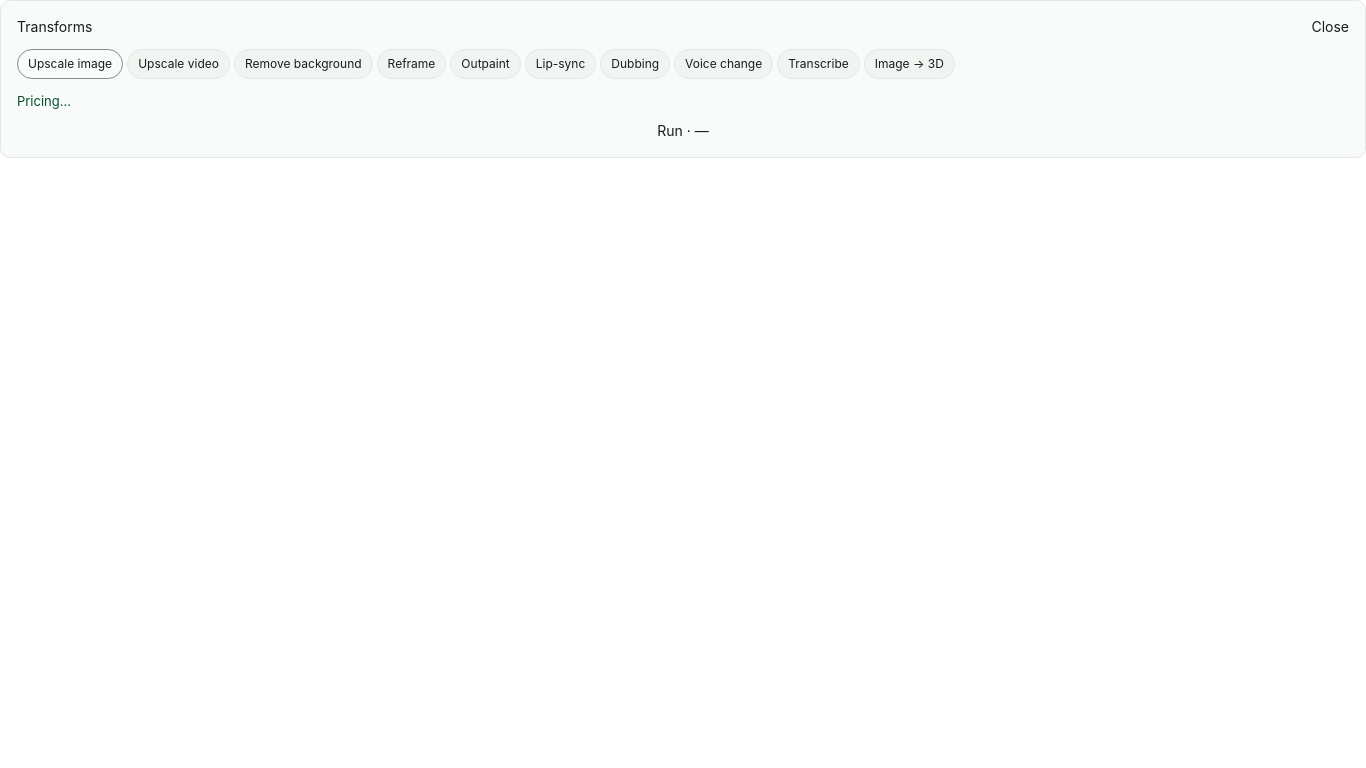
Test: TransformsPanel (F-CRE-11) › Image → 3D prices Trellis and Hunyuan3D on the strip and offers background removal (F-CRE-15)
This screenshot has width=1366, height=768.
Click the tab "Image → 3D" at (909, 64), box [864,49,955,79]
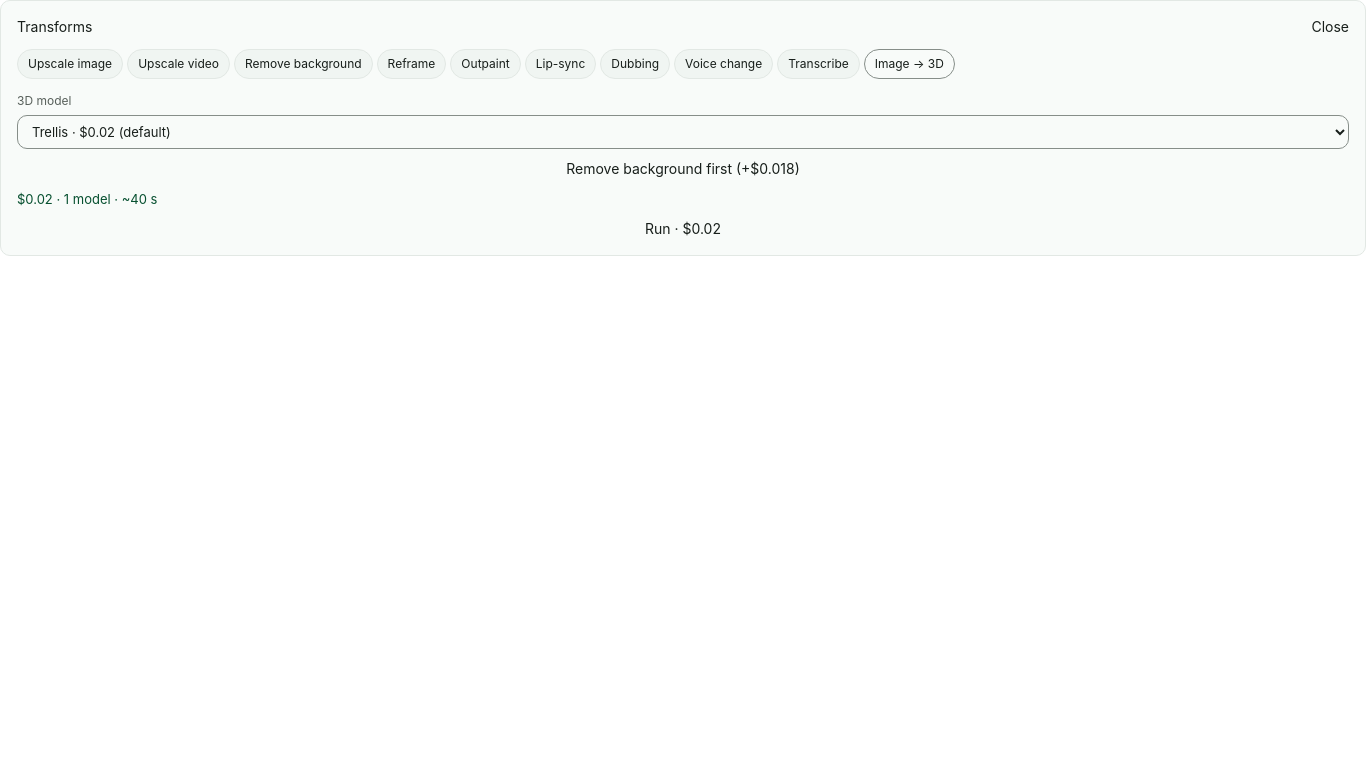
Now the text with class "transforms-cost" reads "$0.02 · 1 model · ~40 s", box [17,191,157,207]
Now the button with class "transforms-bg-first" reads "Remove background first (+$0.018)", box [17,159,1349,179]
Select "Hunyuan3D v3 · $0.375 (premium)" in the dropdown with class "transforms-model3d" at (683, 132), box [17,115,1349,149]
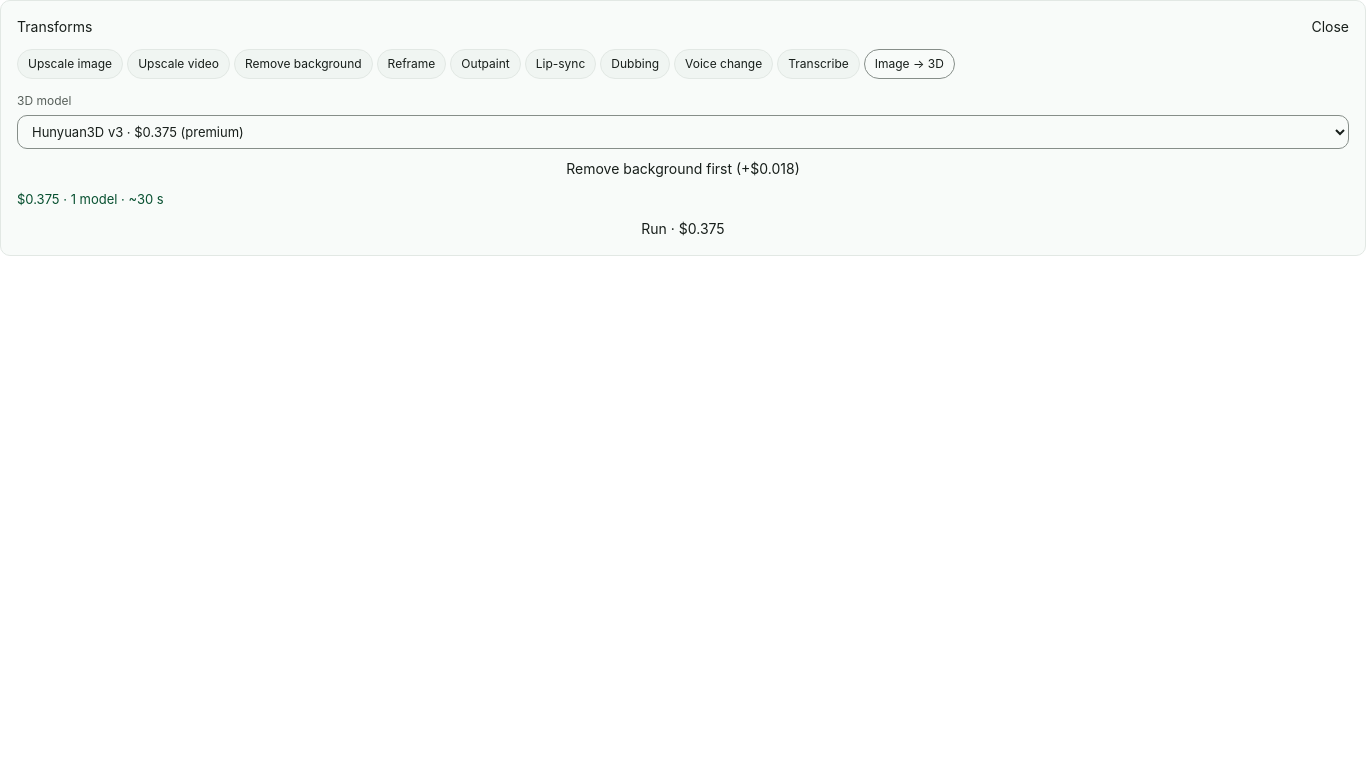
Now the text with class "transforms-cost" reads "$0.375 · 1 model · ~30 s", box [17,191,164,207]
Now the button with class "transforms-run" shows "$0.375", box [17,219,1349,239]
